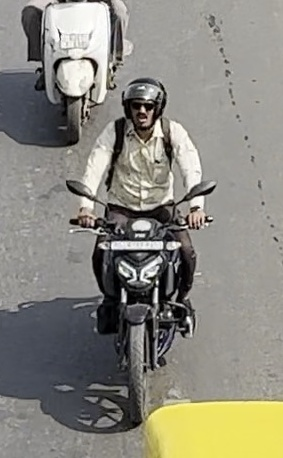BikeWithRider: (54, 72, 227, 428)
Helmet: (117, 73, 170, 138)
